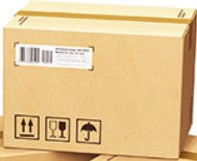stock: (4, 1, 197, 157)
